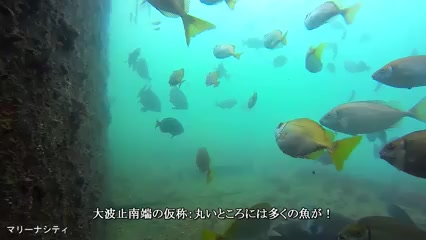azi: (269, 114, 360, 171)
